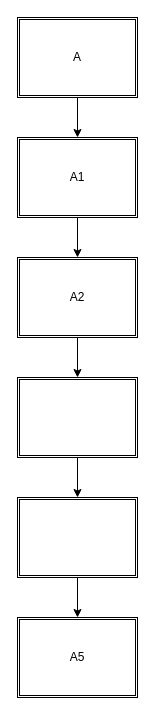
This 155x715 diagram has some shape labels left out. The shapes that lost their labels are listed below. From the top down, each one's centre as x and y in pixels, then its label:
pixel 77 417: A3
pixel 77 537: A4
